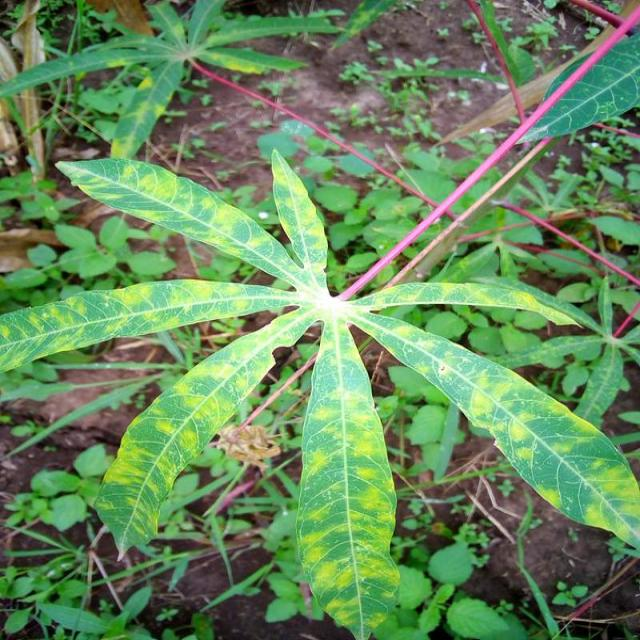cassava leaf: (1, 19, 638, 637), (348, 307, 639, 558), (294, 316, 400, 638)
